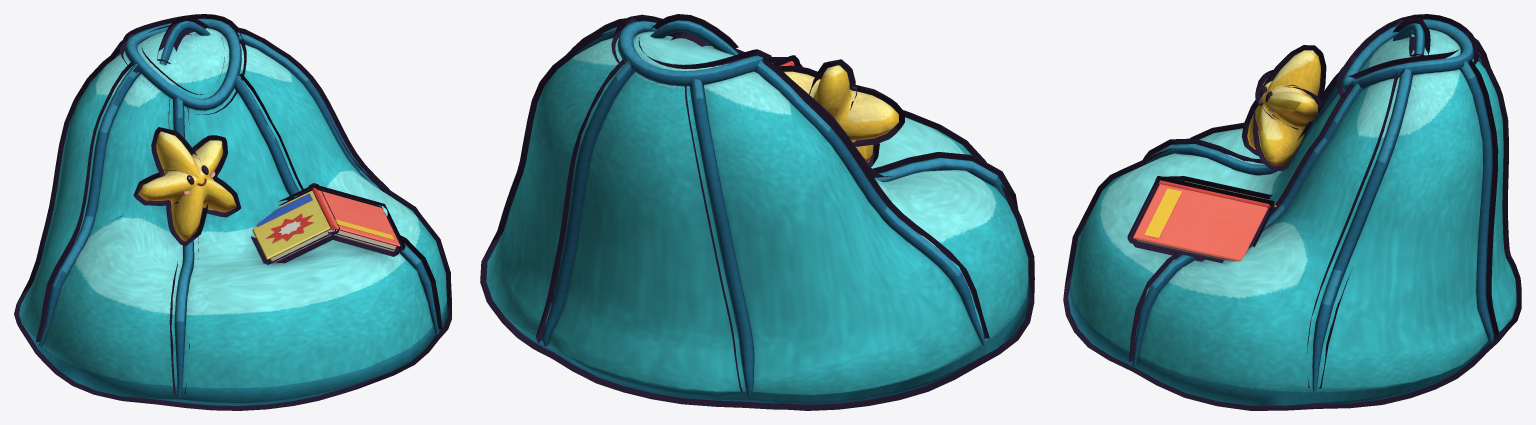
File: BeanBag.glb
The picture shows the model from 3 angles, left to right: view 1: azimuth 30°, elevation 25°; view 2: azimuth 150°, elevation 25°; view 3: azimuth 270°, elevation 25°; orthographic projection. The views are drawn at different scales.
Visible parts, largest first — view 1: BeanBag, BeanBag_Outline; view 2: BeanBag, BeanBag_Outline; view 3: BeanBag, BeanBag_Outline.
Part boxes in pixels (box(x1,y1,x2,y2)): BeanBag: box(19, 18, 447, 405); BeanBag_Outline: box(14, 14, 451, 410); BeanBag: box(486, 20, 1028, 404); BeanBag_Outline: box(480, 14, 1034, 410); BeanBag: box(1068, 19, 1516, 405); BeanBag_Outline: box(1063, 14, 1521, 410).
Bounding box in the file's own units: 11.39 × 8.17 × 10.85.
Materials: 2 (2 with a texture image).
